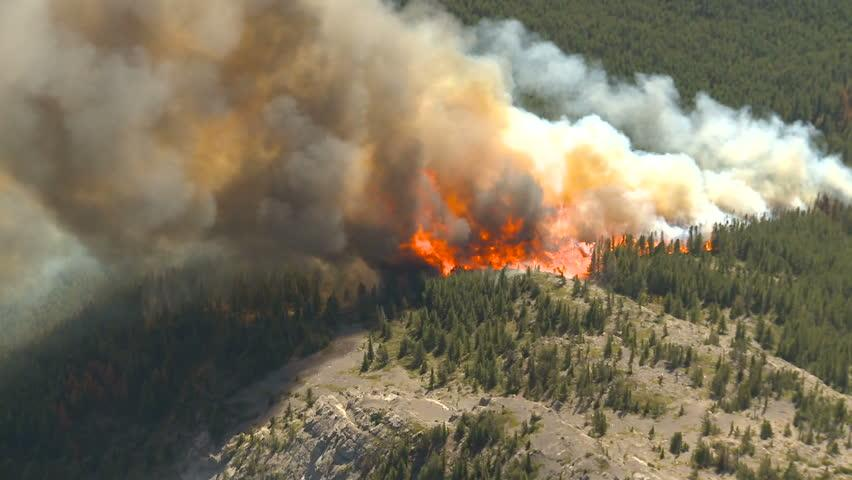fire: (397, 172, 724, 294)
